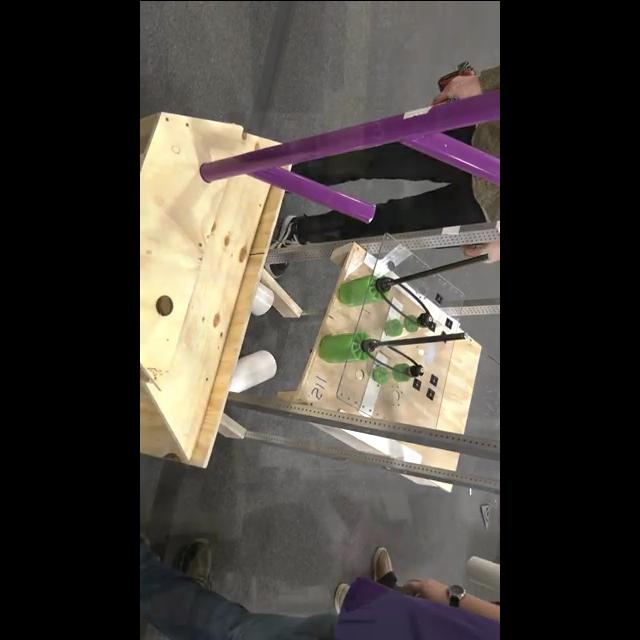CORAL: (229, 349, 279, 393), (254, 282, 274, 314)
